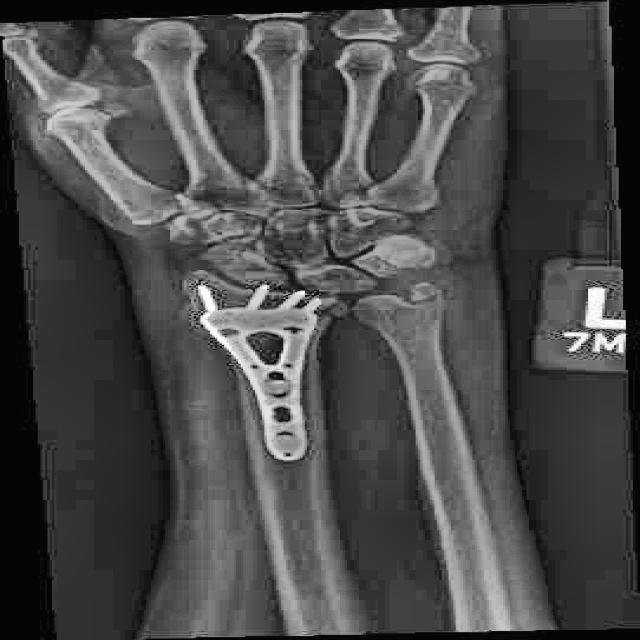wrist positive: (387, 272, 467, 314), (179, 260, 230, 299), (300, 291, 360, 324)
